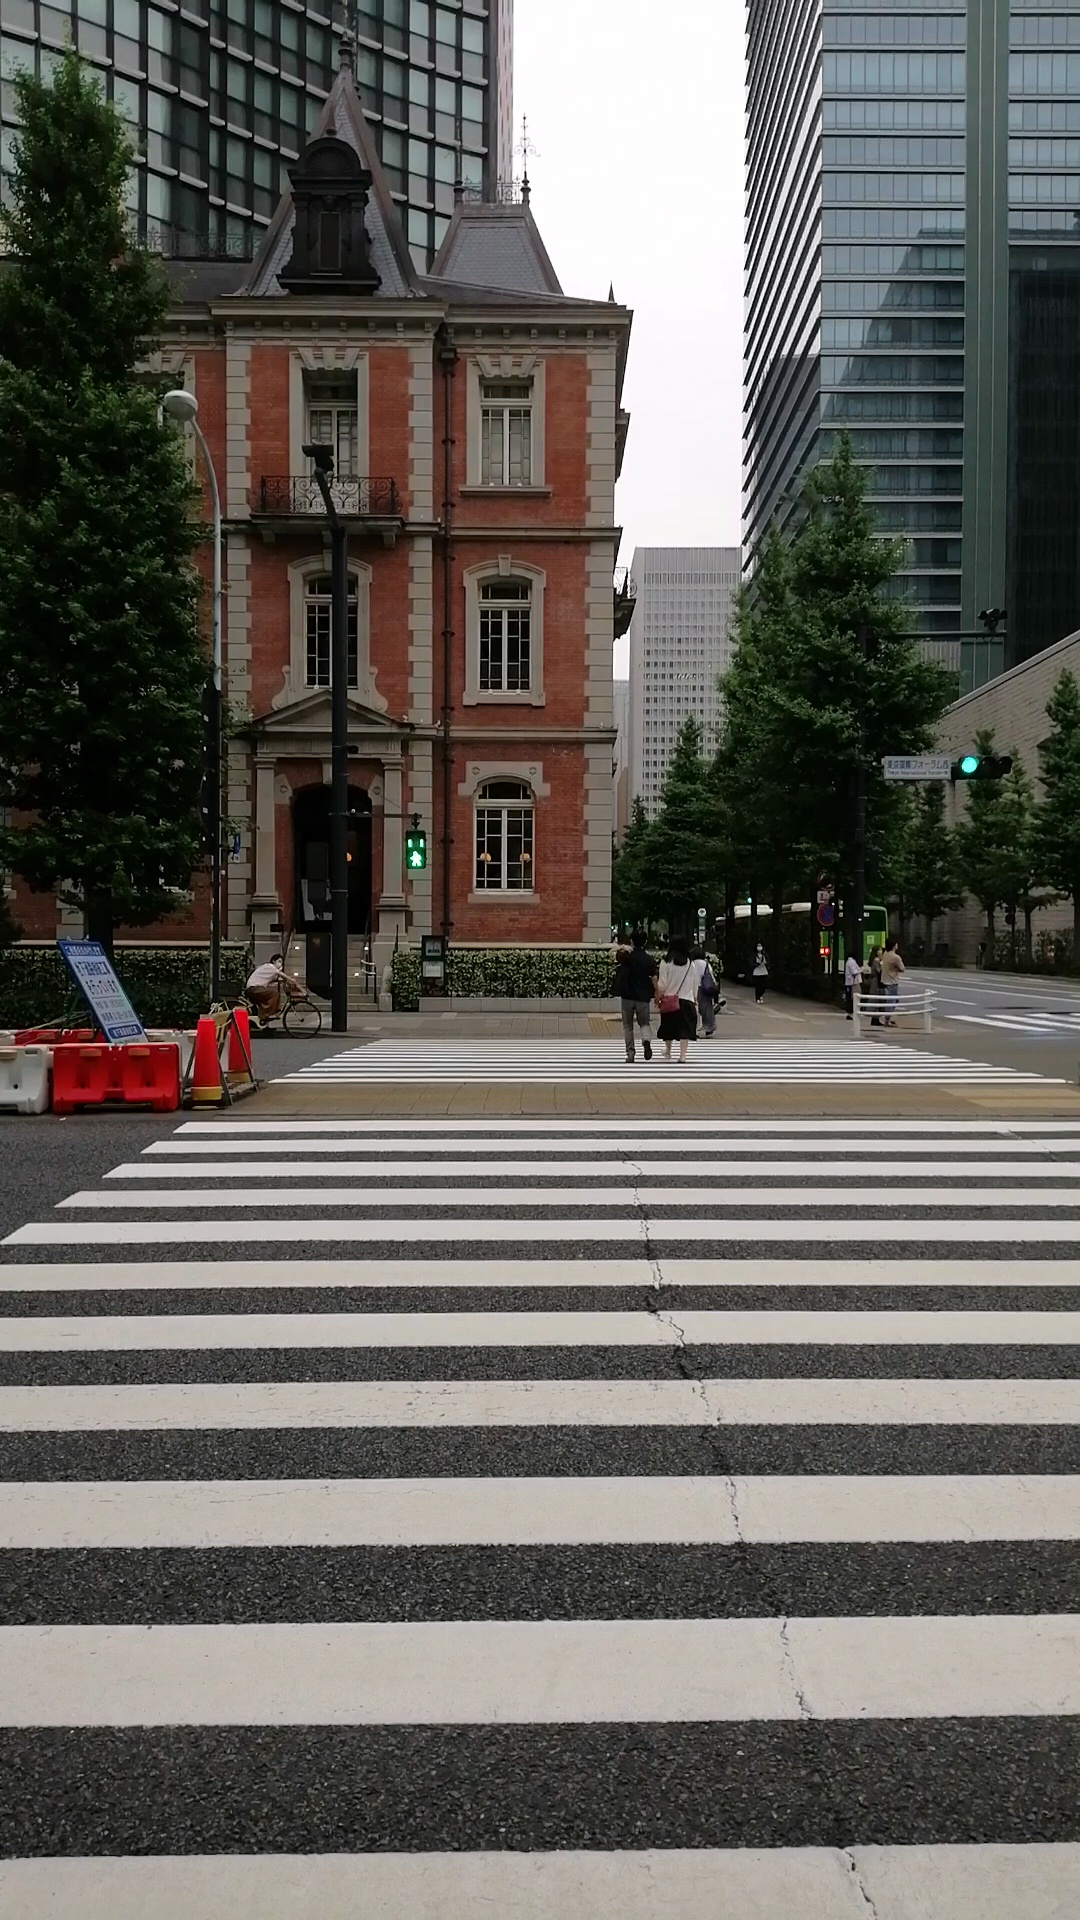green: (404, 828, 427, 870)
